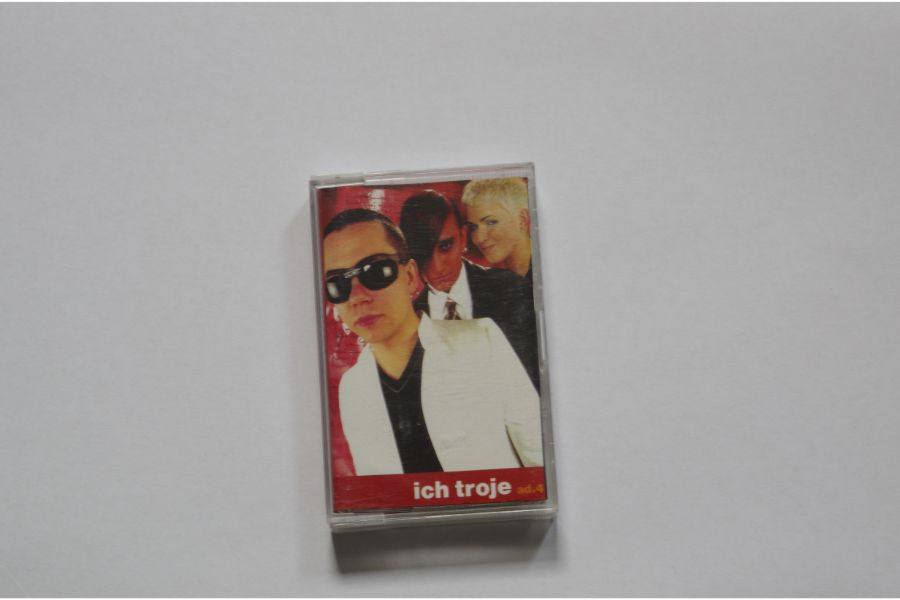album: (309, 163, 564, 534)
